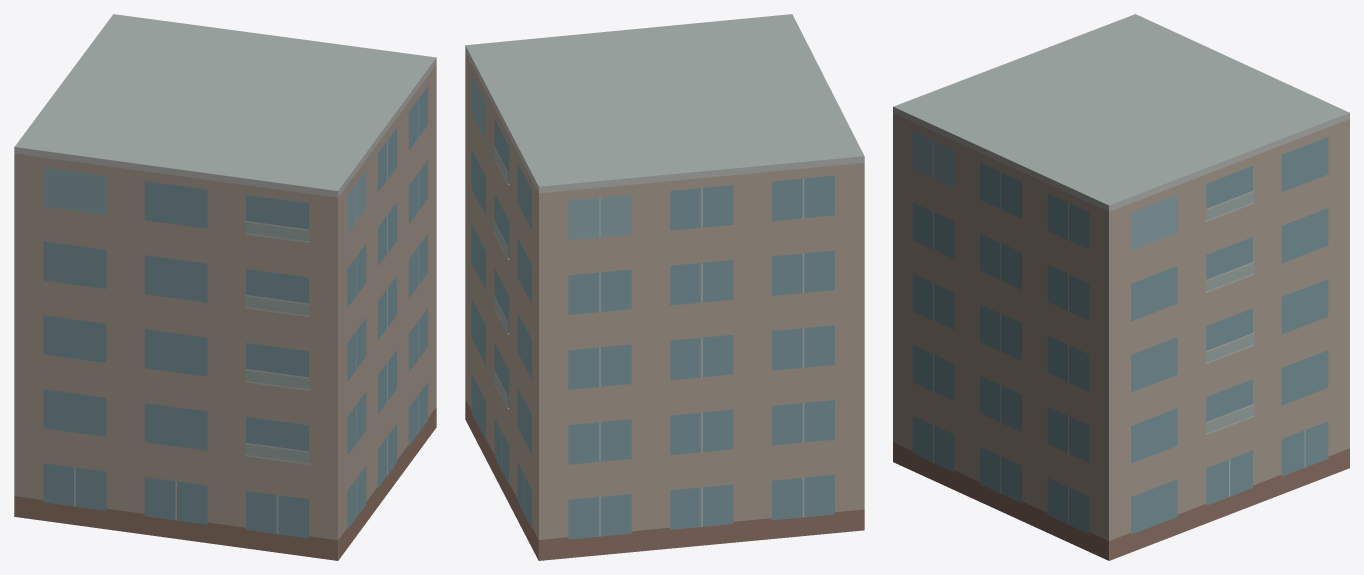
Rendered from survey-upis-32509677.glb.
3 views of the same model, side by side, from view 1: azimuth 30°, elevation 25°; view 2: azimuth 150°, elevation 25°; view 3: azimuth 270°, elevation 25° (orthographic). The views are drawn at different scales.
Parts seen in each view (by area): view 1: survey-upis-32509677.tmp; view 2: survey-upis-32509677.tmp; view 3: survey-upis-32509677.tmp.
Boxes of the visible parts, x1=… form: survey-upis-32509677.tmp: x1=14, y1=14, x2=436, y2=560; survey-upis-32509677.tmp: x1=465, y1=14, x2=864, y2=560; survey-upis-32509677.tmp: x1=893, y1=14, x2=1349, y2=560.
Bounding box in the file's own units: 15.96 × 13.8 × 16.08.
